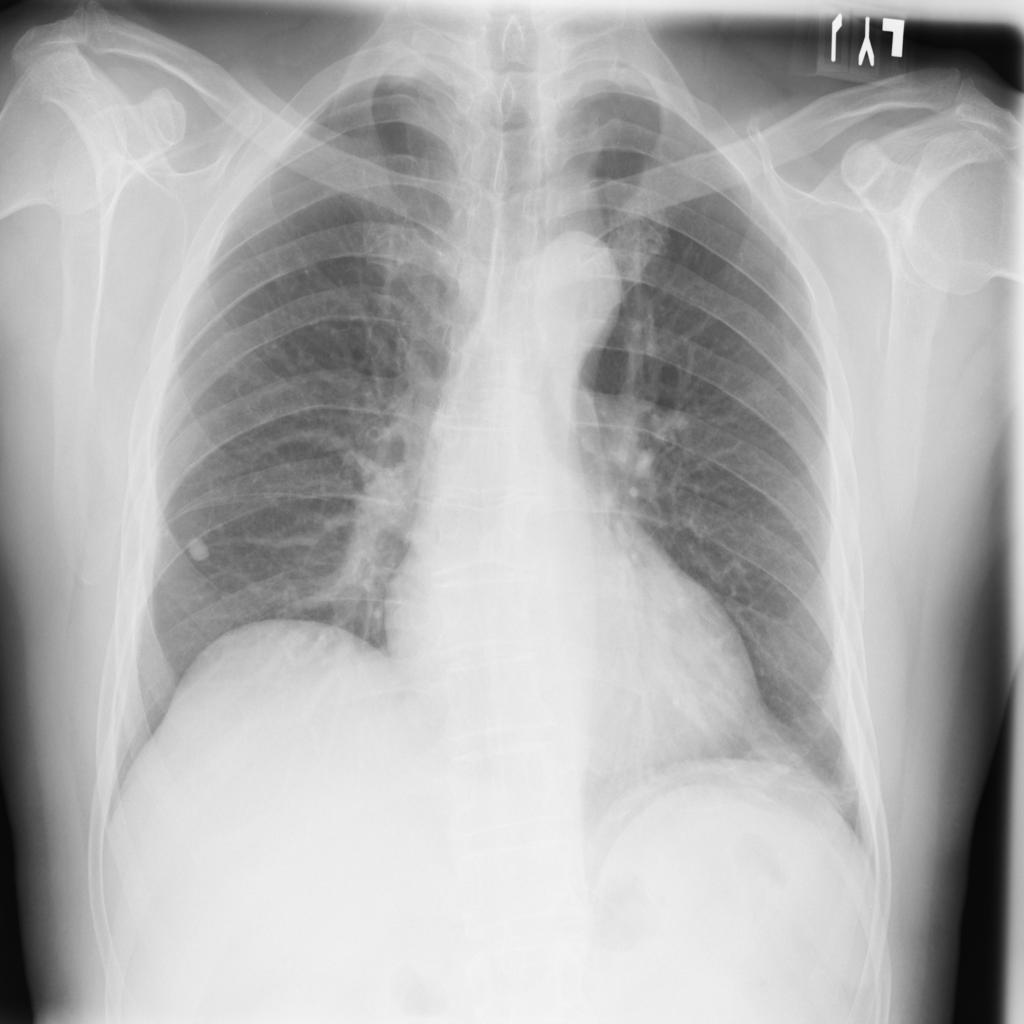nodule: (173, 521, 224, 571)
